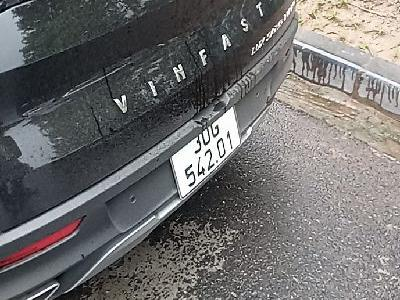car: (168, 104, 242, 201)
